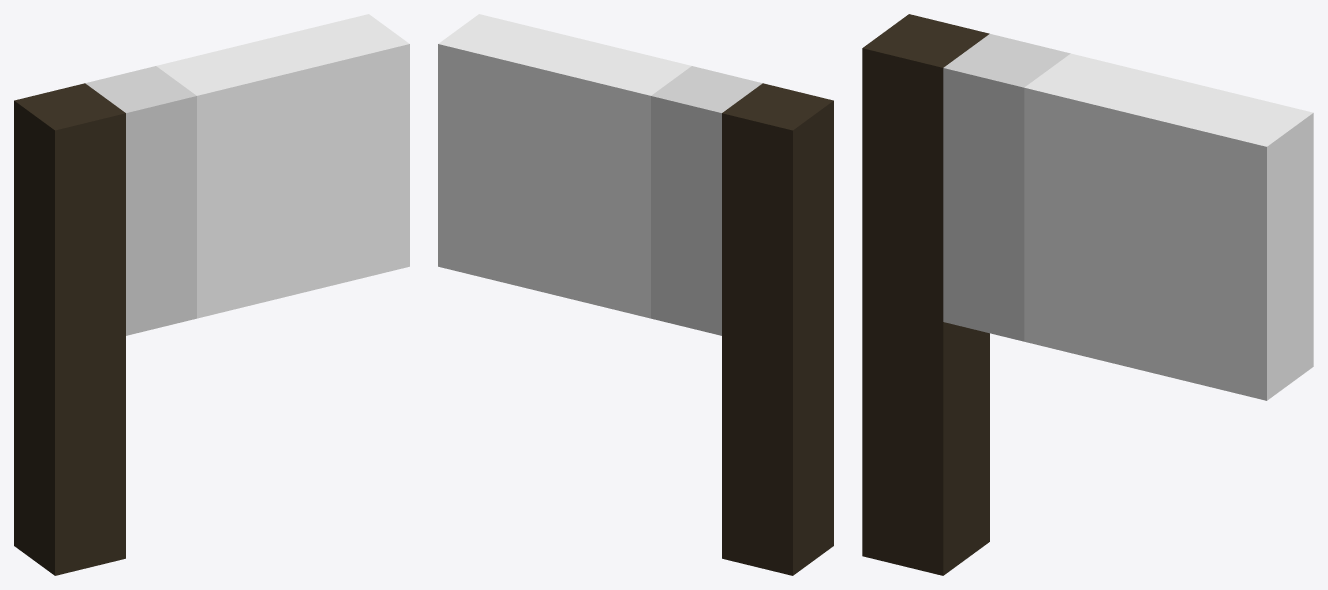
Rendered from overworld-0-props_flagwhite.obj.
The picture shows the model from 3 angles, left to right: view 1: azimuth 30°, elevation 25°; view 2: azimuth 150°, elevation 25°; view 3: azimuth 330°, elevation 25°; orthographic projection. The views are drawn at different scales.
Parts seen in each view (by area): view 1: props_flagwhite; view 2: props_flagwhite; view 3: props_flagwhite.
Boxes of the visible parts, left/top/right/bottom form: props_flagwhite: left=14, top=14, right=409, bottom=575; props_flagwhite: left=438, top=14, right=833, bottom=575; props_flagwhite: left=862, top=14, right=1313, bottom=575.
Bounding box in the file's own units: 0.5 × 0.6 × 0.1.
Materials: 1 (1 with a texture image).
